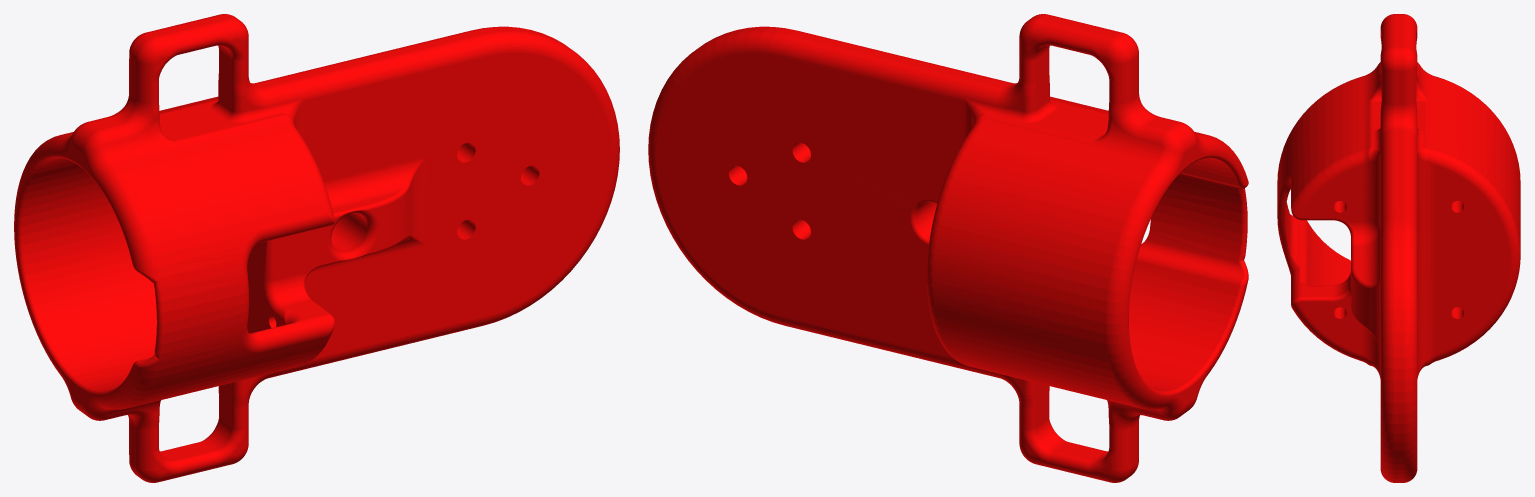
Rendered from left_arm_2_forearm_1.glb.
3 views of the same model, side by side, from view 1: azimuth 30°, elevation 25°; view 2: azimuth 150°, elevation 25°; view 3: azimuth 270°, elevation 25° (orthographic). The views are drawn at different scales.
Visible parts, largest first — view 1: left_arm_2_forearm_1.obj; view 2: left_arm_2_forearm_1.obj; view 3: left_arm_2_forearm_1.obj.
Part boxes in pixels (x1=…): left_arm_2_forearm_1.obj: x1=14, y1=14, x2=619, y2=482; left_arm_2_forearm_1.obj: x1=648, y1=14, x2=1248, y2=482; left_arm_2_forearm_1.obj: x1=1277, y1=14, x2=1520, y2=482.
Bounding box in the file's own units: 0.1455 × 0.115 × 0.066.
